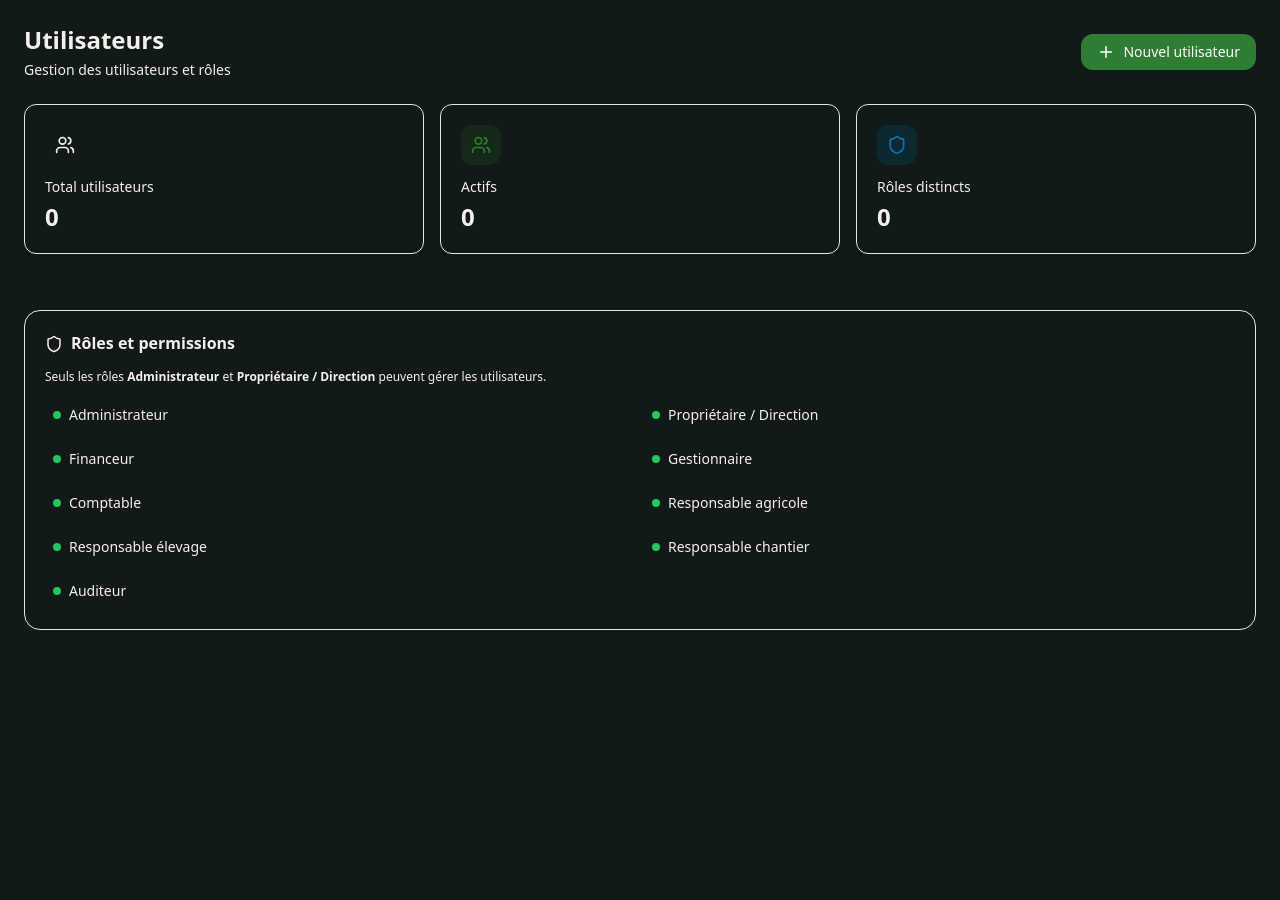
Test: UsersPage — création utilisateur avec site › TEST 1 — création normale transmet le site_id sélectionné
The image size is (1280, 900).
Later steps or results of the test are not shown.
Click the button "Nouvel utilisateur" at [1169, 52], box x1=1082 y1=34 x2=1256 y2=70
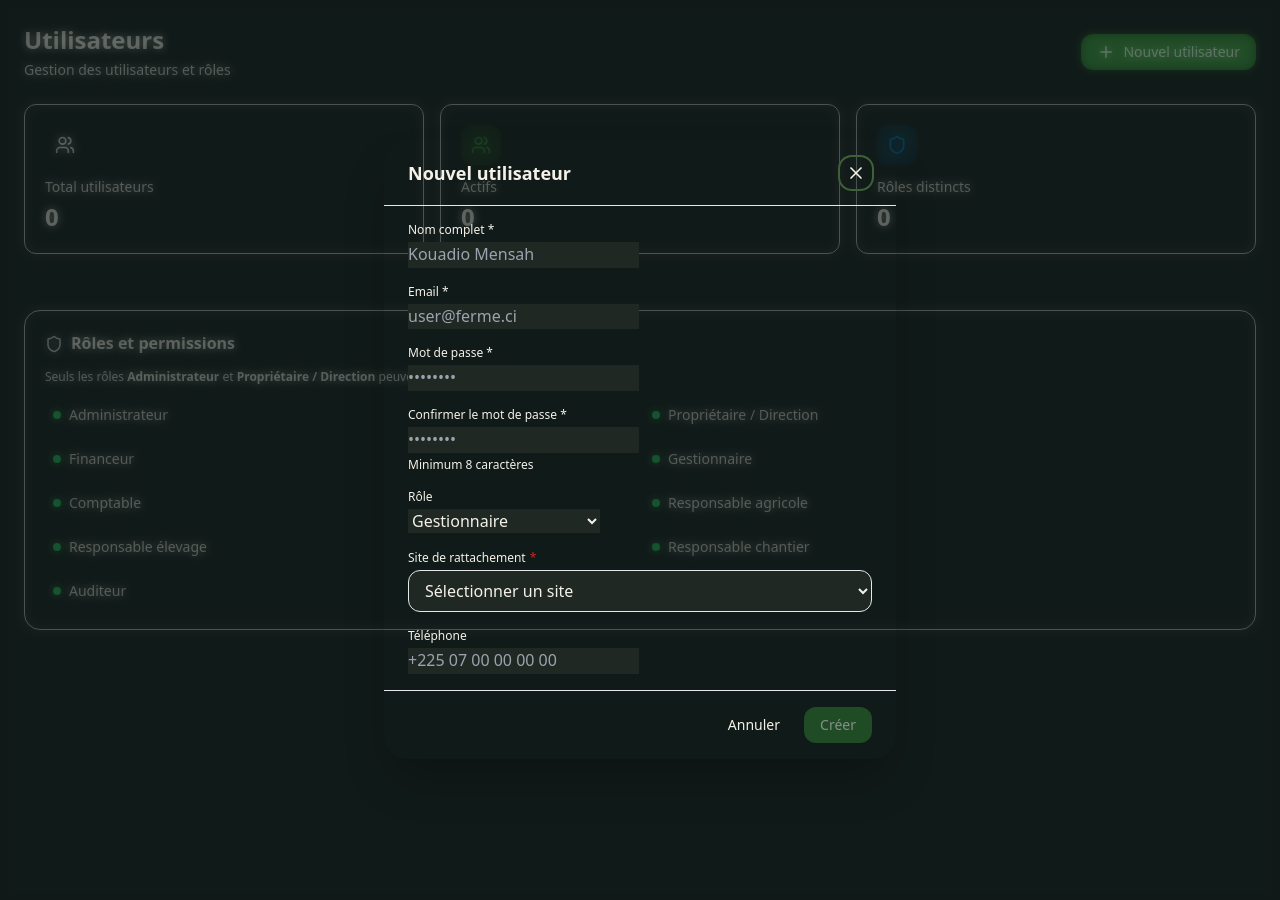
Type "Test User" into the field with placeholder "Kouadio Mensah" at [524, 255], box x1=408 y1=242 x2=639 y2=268
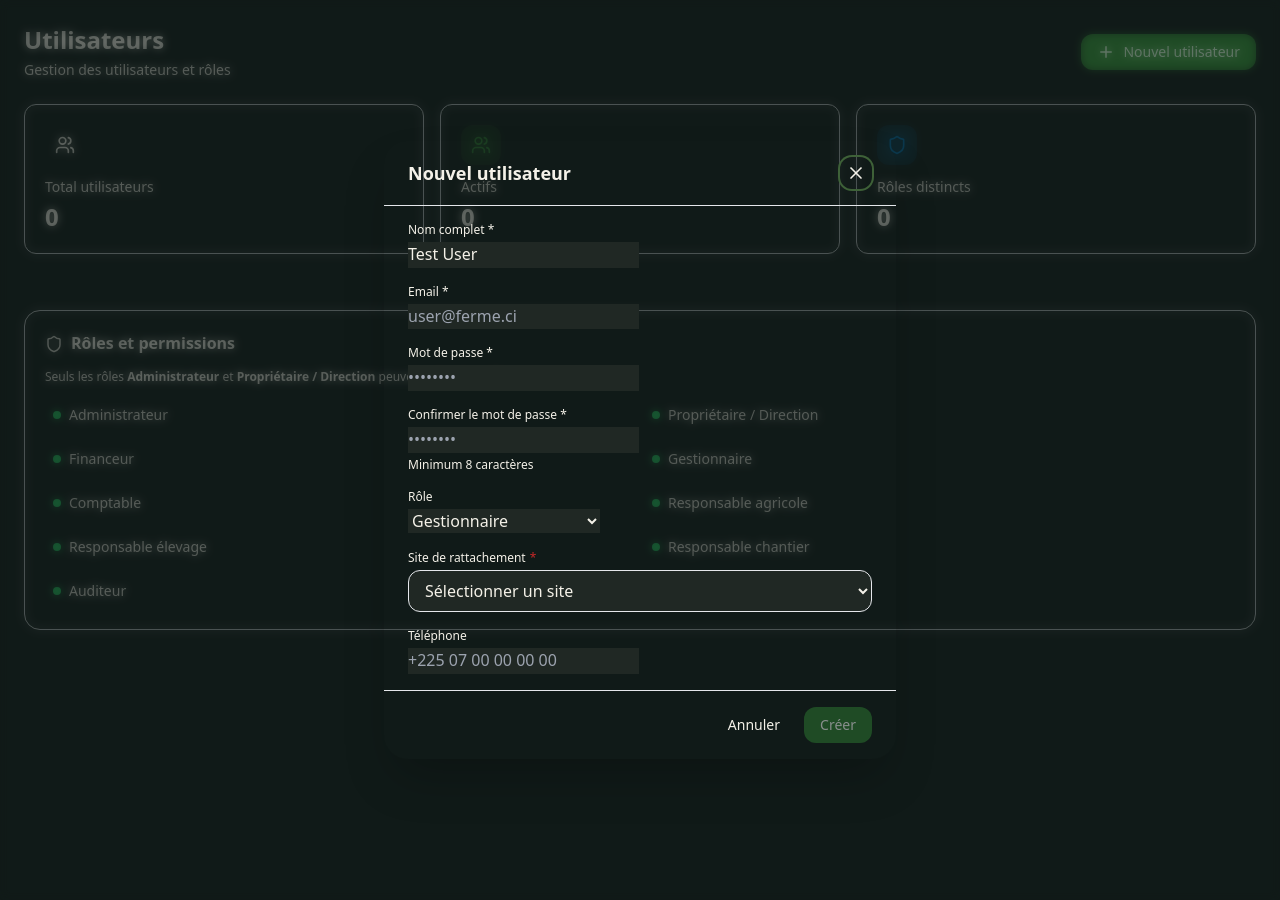
Type "test@ferme.ci" into the field with placeholder "user@ferme.ci" at [524, 317], box x1=408 y1=304 x2=639 y2=329
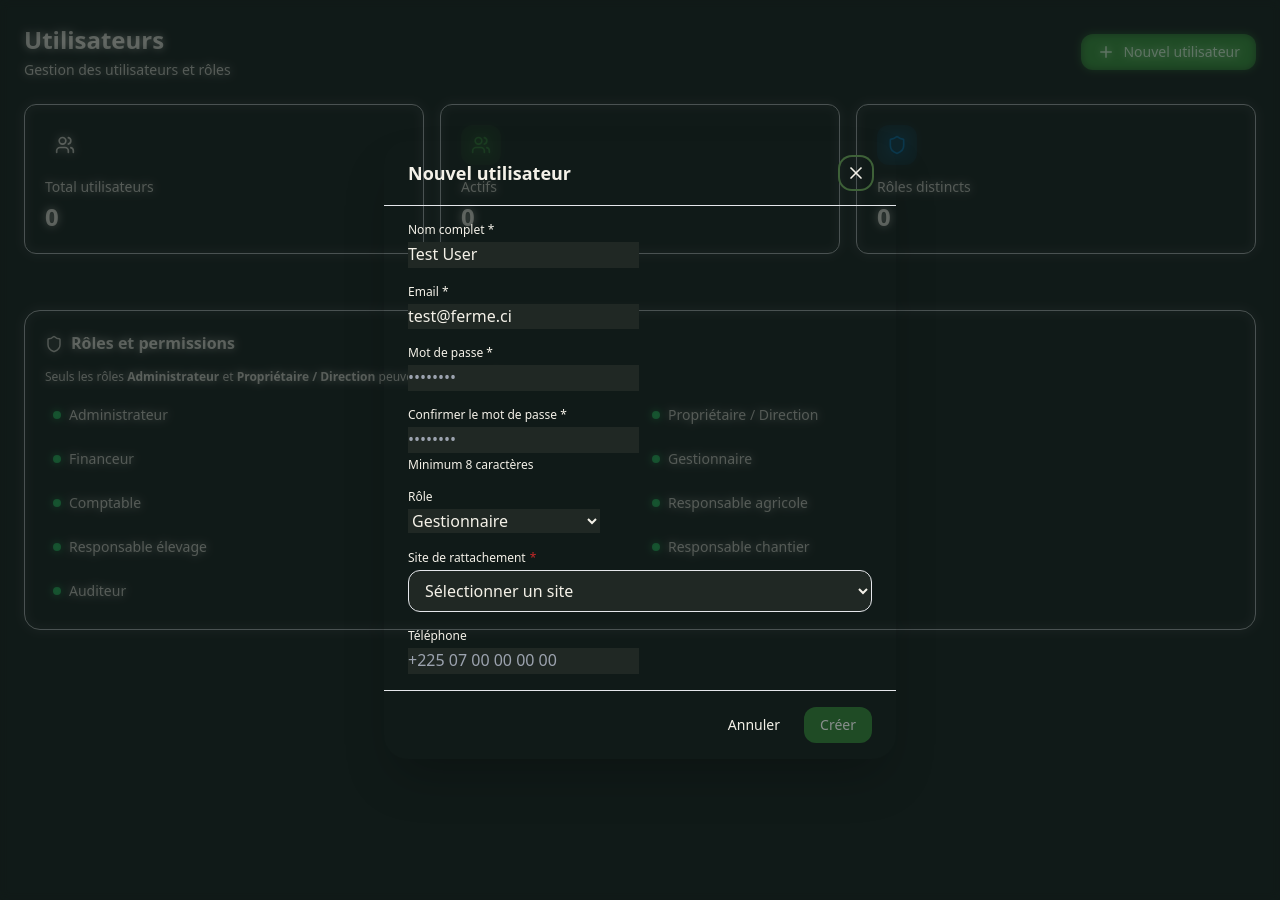
Type "Password123" into the 1st password field with placeholder "••••••••" at [524, 378], box x1=408 y1=365 x2=639 y2=391
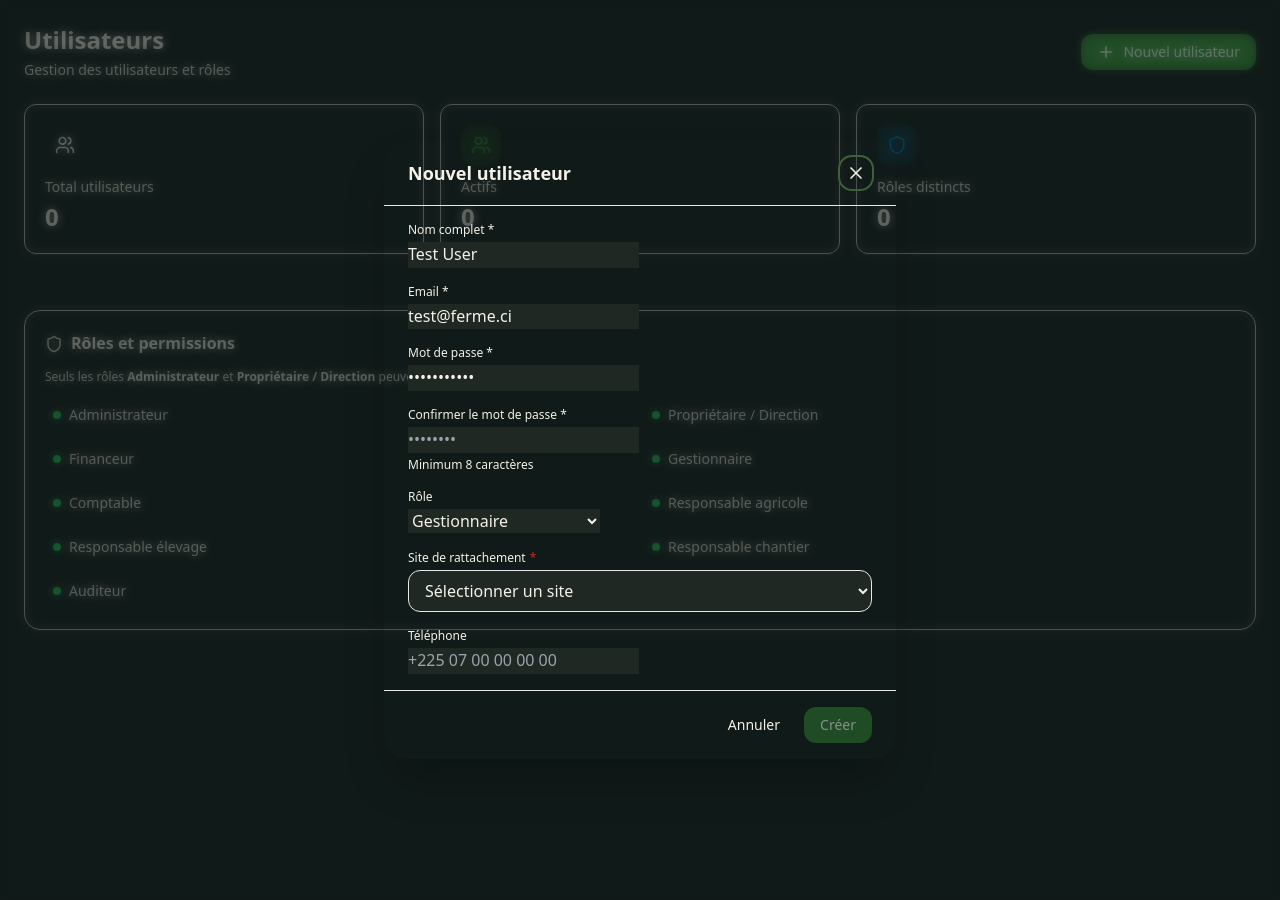
Type "Password123" into the password field with placeholder "••••••••" at [524, 440], box x1=408 y1=427 x2=639 y2=453
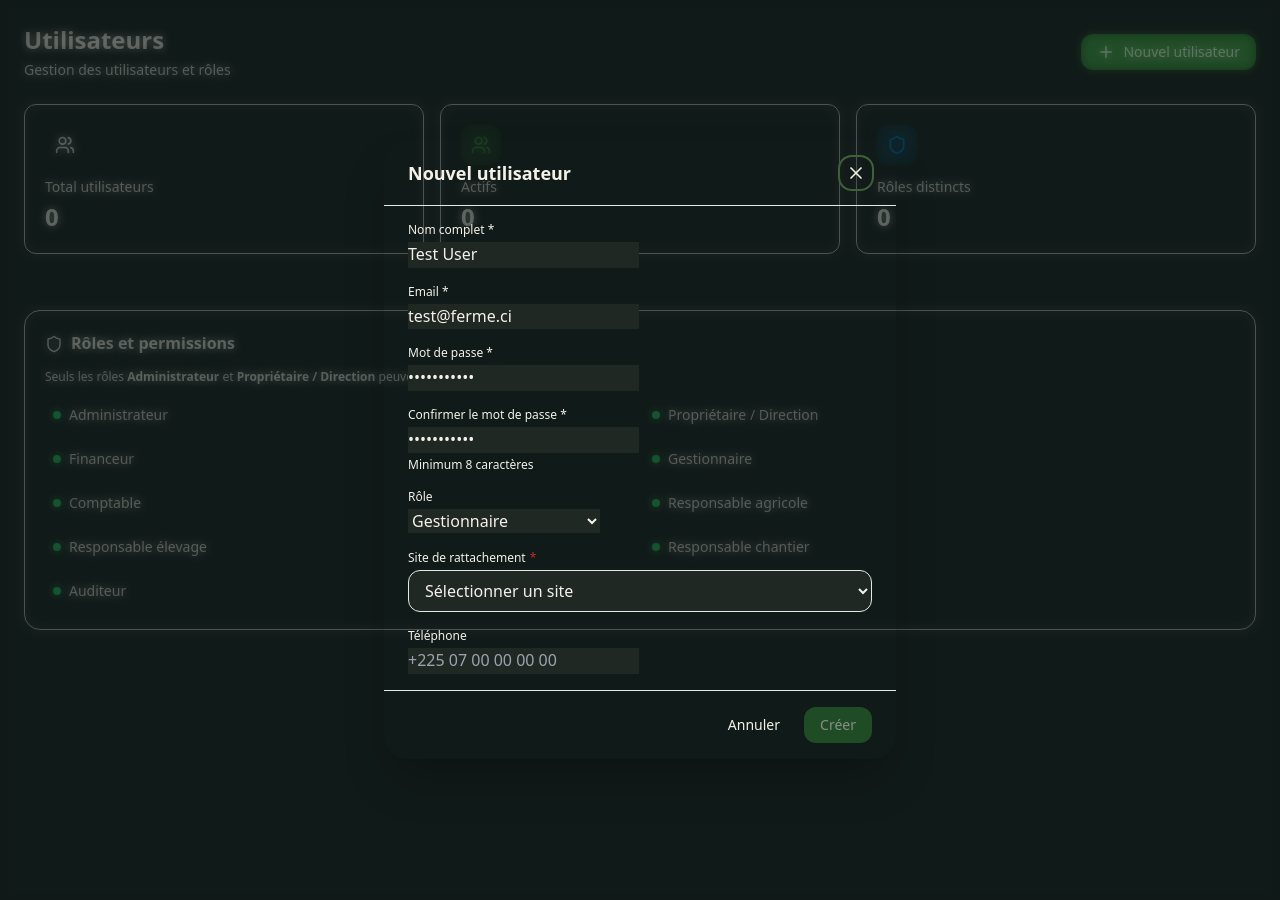
Expected: the dropdown below "Site de rattachement" is shown, x1=408 y1=570 x2=872 y2=612
